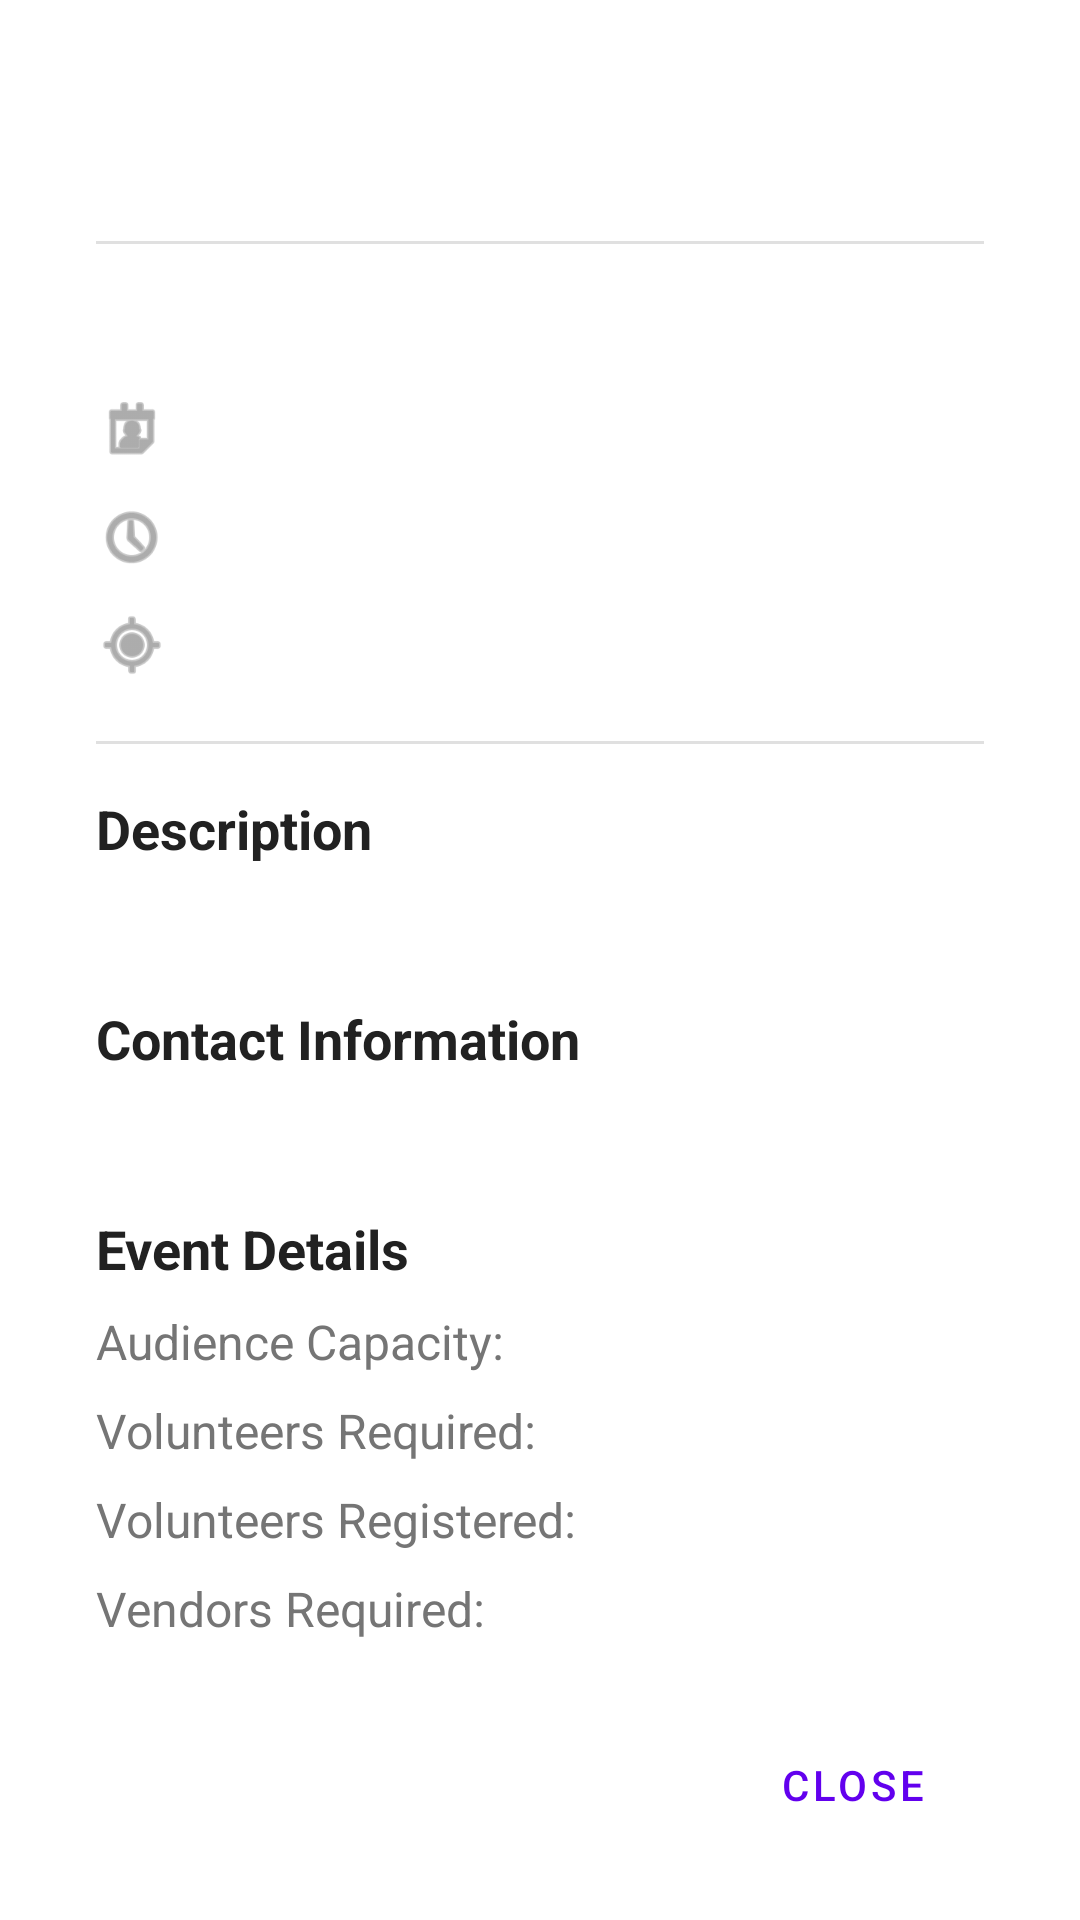

Where icons sit on this 1080px×1920px app screen, as (x1, y1, x2, y2):
calendar: (109, 402, 155, 454)
mylocation: (103, 616, 161, 674)
recent history: (106, 511, 158, 563)
